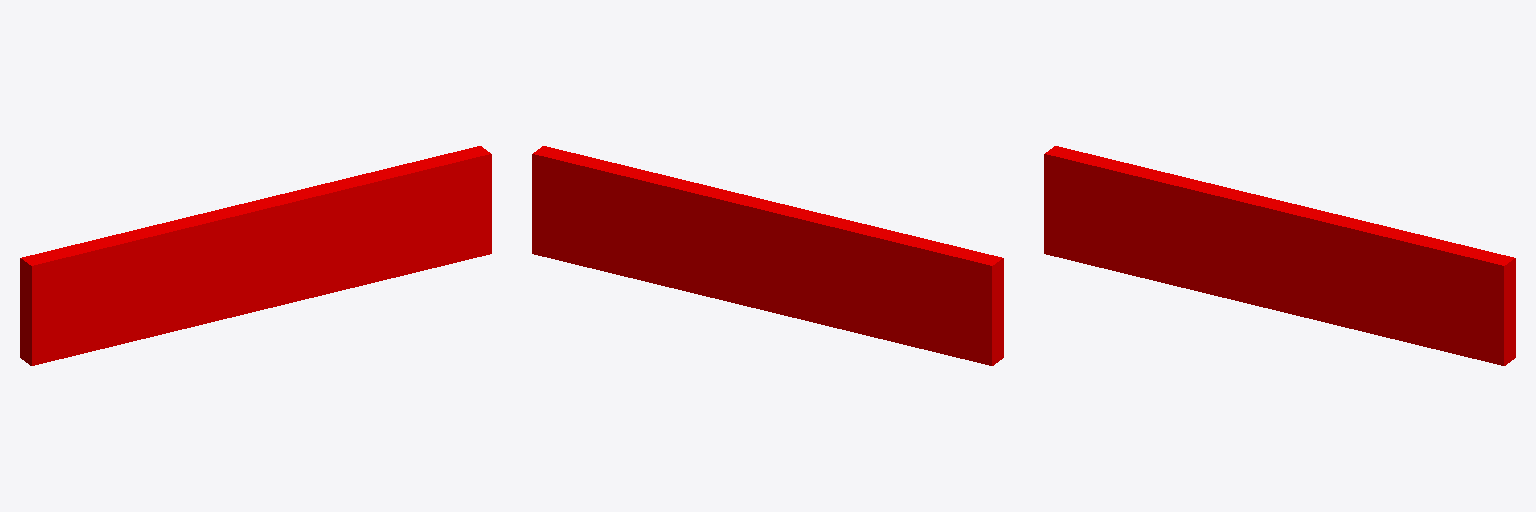
The robot description file, URDF, robot "back_boundary":
<?xml version="1.0"?>
<!-- created with Phobos 1.0.1 "Capricious Choutengan" -->
  <robot name="back_boundary">

    <link name="back_wall">
      <inertial>
        <contact>
          <lateral_friction value="1"/>
        </contact>
        <origin xyz="0 0 0" rpy="0 0 0"/>
        <mass value="0.001"/>
        <inertia ixx="0.001" ixy="0" ixz="0" iyy="0.001" iyz="0" izz="0.001"/>
      </inertial>
      <visual name="Cube">
        <origin xyz="0 0 0" rpy="0 0 0"/>
        <geometry>
          <box size="2.4 0.1 0.5"/>
        </geometry>
        <material name="red">
          <color rgba="1.0 0 0 1.0"/>
        </material>
      </visual>
      <collision>
        <origin rpy="0 0 0" xyz="0 0 0"/>
        <geometry>
          <box size="1.3 0.1 0.5"/>
        </geometry>
      </collision>
    </link>

    <material name="blue">
      <color rgba="0.68 0.74 0.04 1.0"/>
    </material>

  </robot>

--- Facts derived from the render (not from the file) ---
Views: 3 orthographic renders of the robot side by side, from view 1: azimuth 30°, elevation 25°; view 2: azimuth 150°, elevation 25°; view 3: azimuth 330°, elevation 25°.
Model back_boundary with 1 links and 0 joints (none), rooted at back_wall, posed all joints at 0.
Visible links, largest first — view 1: back_wall; view 2: back_wall; view 3: back_wall.
Link boxes in pixels (box(x1,y1,x2,y2)): back_wall: box(20, 146, 491, 365); back_wall: box(532, 146, 1003, 365); back_wall: box(1044, 146, 1515, 365).
Bounding box of the posed robot: 2.4 × 0.1 × 0.5 m (x, y, z).
Geometry: primitives only (box / cylinder / sphere), no mesh files.